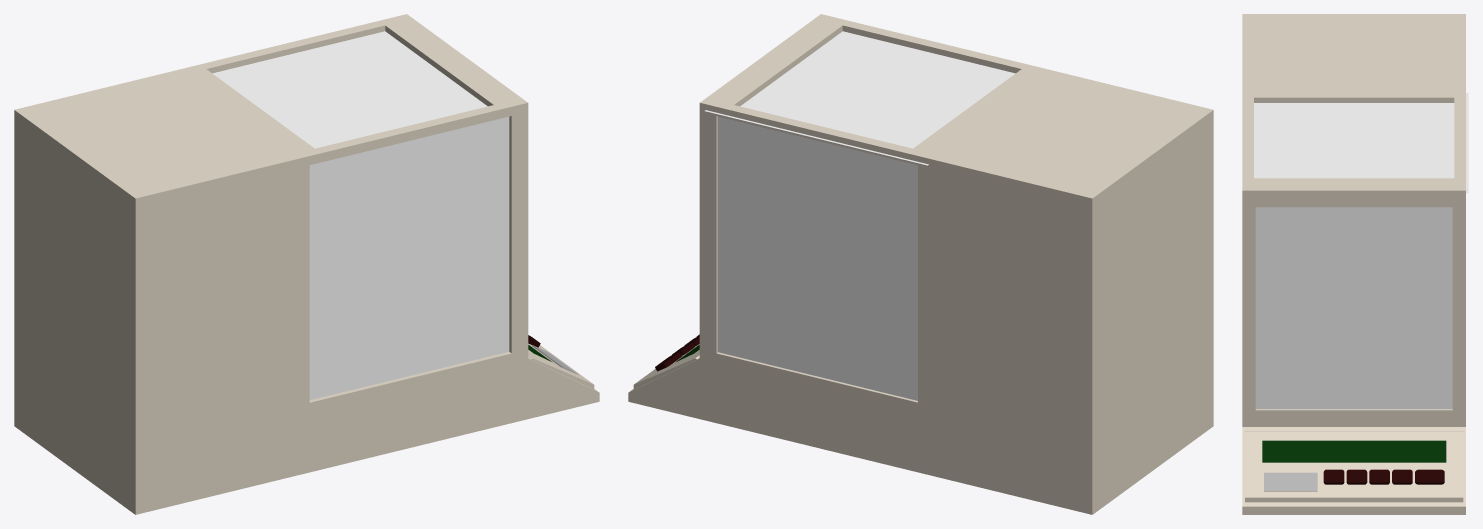
File: balance_1003.gltf
3 views of the same model, side by side, from view 1: azimuth 30°, elevation 25°; view 2: azimuth 150°, elevation 25°; view 3: azimuth 270°, elevation 25° (orthographic). The views are drawn at different scales.
Parts seen in each view (by area): view 1: balance, glassL, glassT.001; view 2: balance, glassR, glassT.001; view 3: balance, glassF.002, glassT.001, screen, brand, button_tare, button_onoff, button_set, button_select, button_cal.
Part boxes in pixels (x1,y1,x2,y2): balance: [14, 14, 599, 514]; glassL: [309, 116, 509, 400]; glassT.001: [212, 31, 487, 148]; balance: [628, 14, 1213, 514]; glassR: [718, 116, 917, 400]; glassT.001: [705, 31, 1015, 165]; balance: [1242, 14, 1465, 514]; glassF.002: [1255, 207, 1452, 408]; glassT.001: [1254, 93, 1468, 193]; screen: [1262, 440, 1446, 462]; brand: [1264, 472, 1317, 491]; button_tare: [1415, 469, 1444, 484]; button_onoff: [1323, 469, 1344, 484]; button_set: [1346, 469, 1367, 484]; button_select: [1392, 469, 1412, 484]; button_cal: [1369, 469, 1389, 484].
Bounding box in the file's own units: 6.27 × 4.09 × 2.87.
